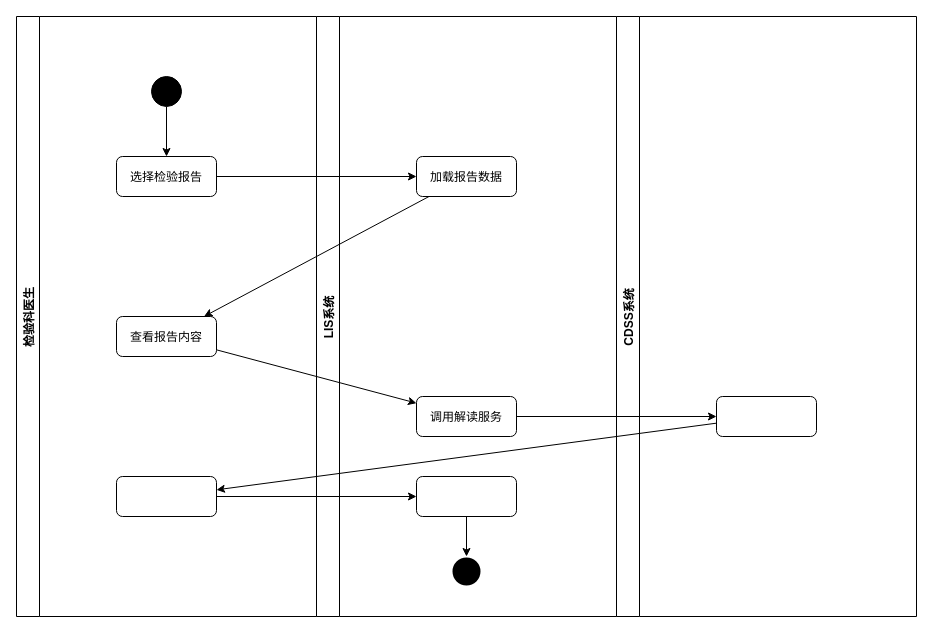
This 933x633 diagram has some shape labels left out. Here are the shapes that lost their labels. From the top down, the centre of each, then its label:
At [766,416]: "生成解读建议".
At [166,496]: "查看解读建议".
At [466,496]: "记录查看日志".
